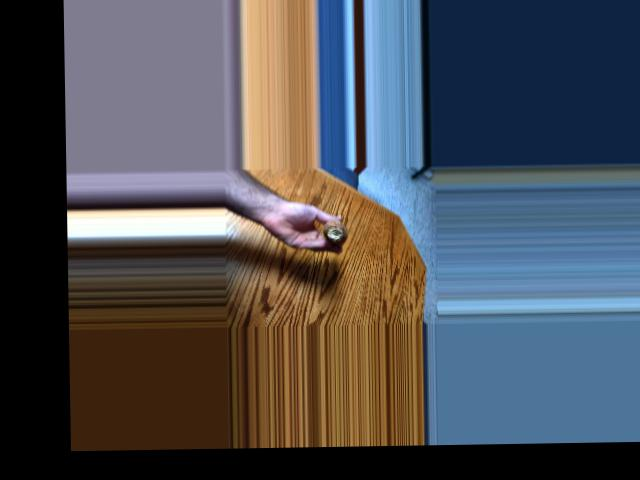sweet_potato: (322, 217, 353, 241)
